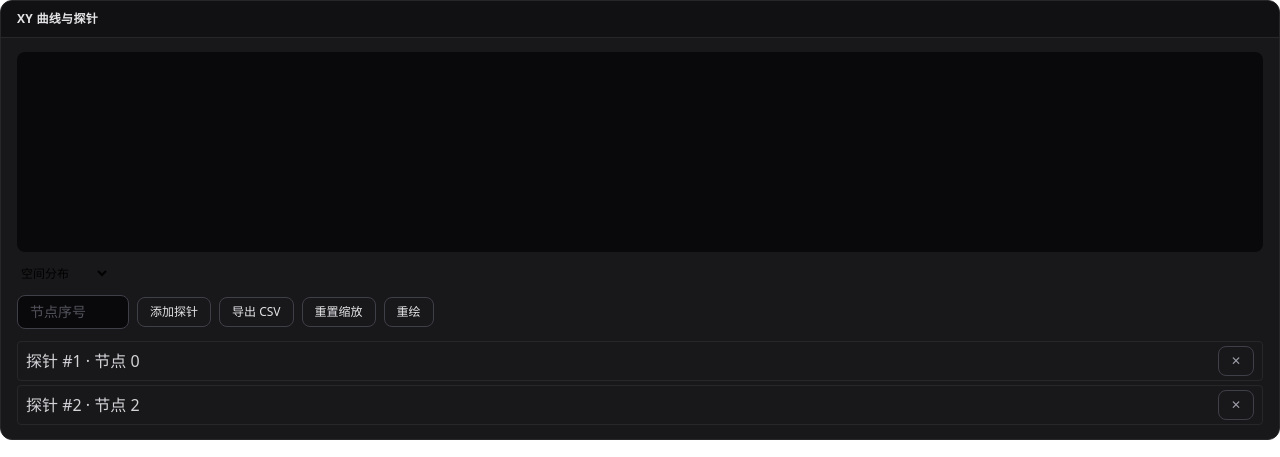
Test: XyChartPanel › 移除探针按钮从列表删除对应探针
Click the button "✕" in the row of "探针 #1 · 节点 0": (1236, 361) x1=1218 y1=346 x2=1254 y2=376
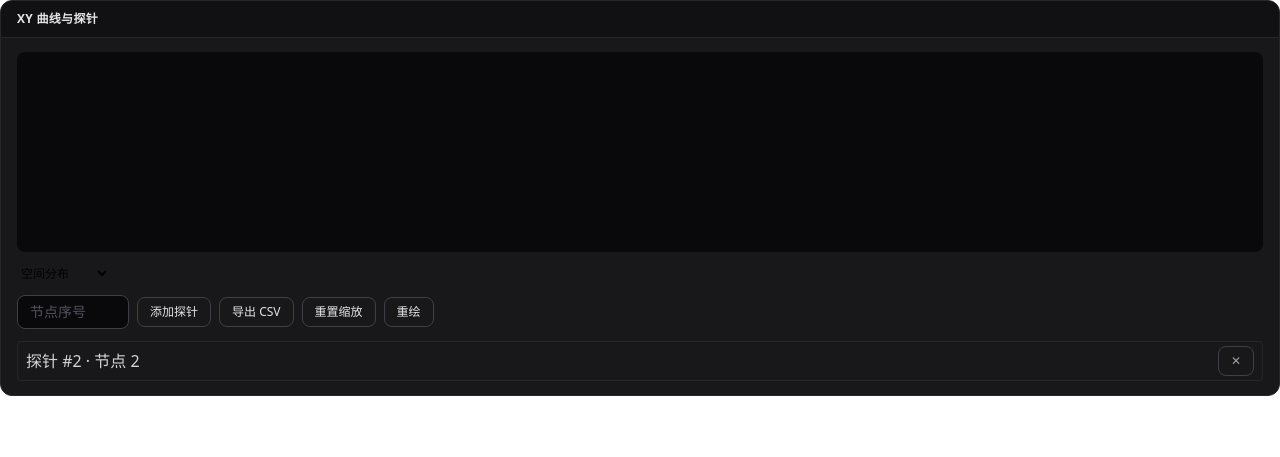
Expected: the text "节点 2" is shown, x1=26 y1=350 x2=140 y2=372
Expected: the text "节点 0" is gone
